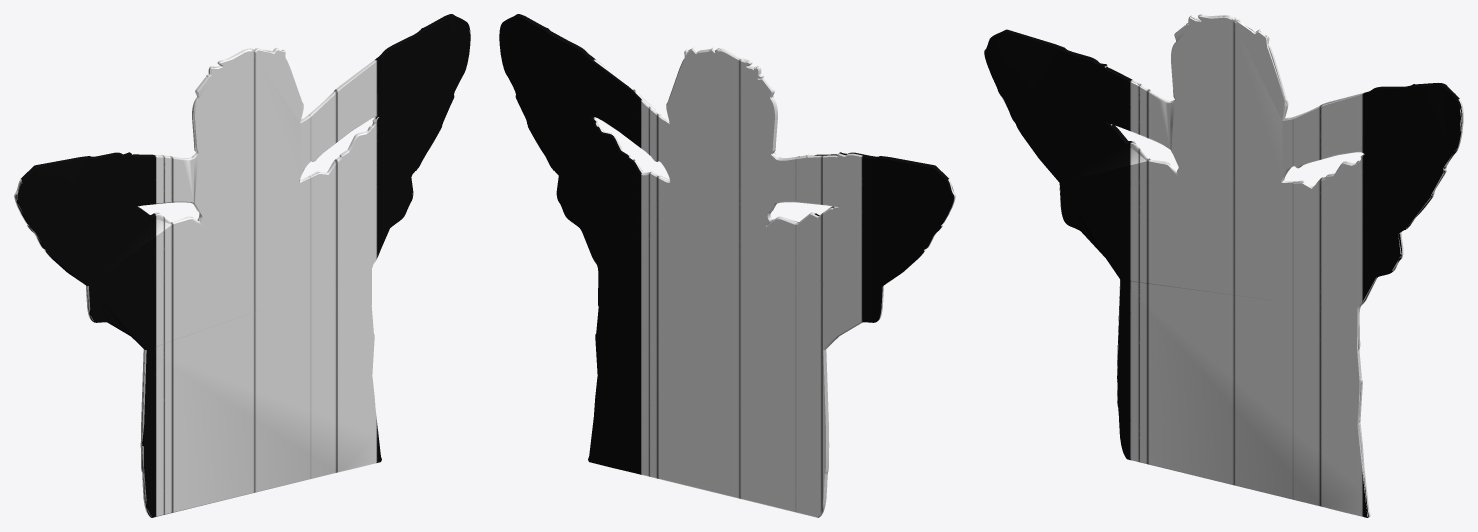
The model's file is dude_01a.fbx.
The picture shows the model from 3 angles, left to right: view 1: azimuth 30°, elevation 25°; view 2: azimuth 150°, elevation 25°; view 3: azimuth 330°, elevation 25°; orthographic projection. The views are drawn at different scales.
Parts seen in each view (by area): view 1: Extrude_NURBS_1; view 2: Extrude_NURBS_1; view 3: Extrude_NURBS_1.
Part boxes in pixels (bbox=[...]): Extrude_NURBS_1: bbox=[14, 14, 470, 517]; Extrude_NURBS_1: bbox=[499, 14, 955, 517]; Extrude_NURBS_1: bbox=[984, 14, 1463, 517].
Bounding box in the file's own units: 406 × 379 × 4.
Materials: 1 (1 with a texture image).
